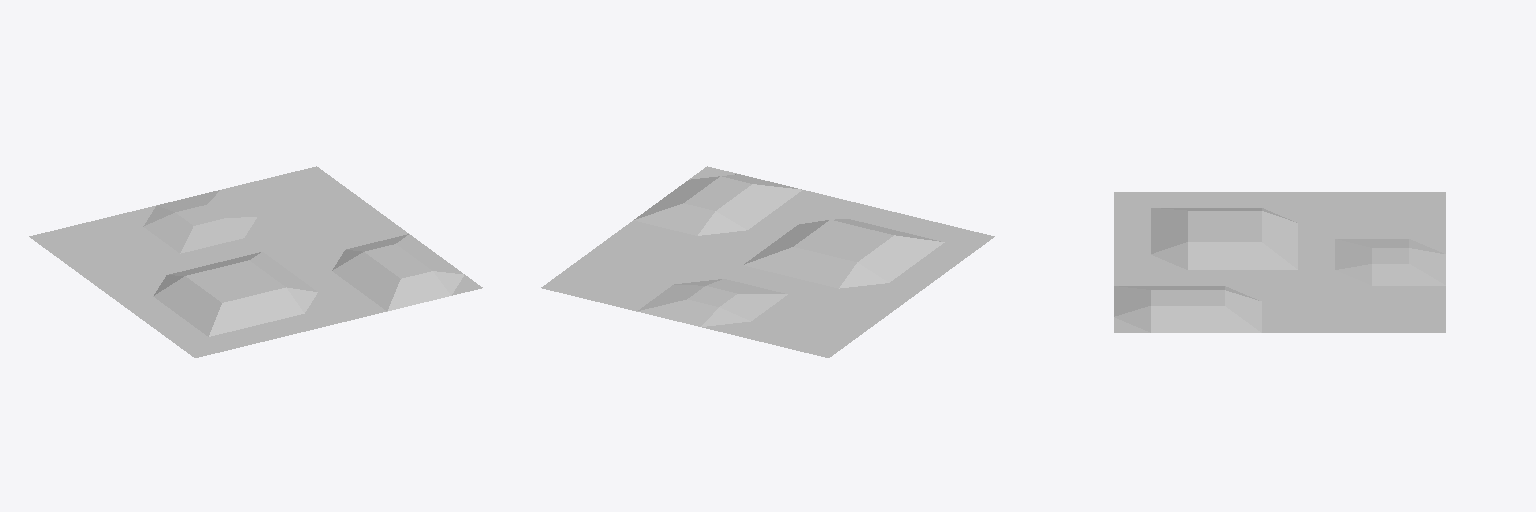
The model's file is terrian.obj.
The picture shows the model from 3 angles: view 1: azimuth 30°, elevation 25°; view 2: azimuth 150°, elevation 25°; view 3: azimuth 270°, elevation 25°; orthographic projection.
Visible parts, largest first — view 1: Terrian_Grid; view 2: Terrian_Grid; view 3: Terrian_Grid.
Part boxes in pixels (x1,y1,x2,y2): Terrian_Grid: (29, 166, 482, 357); Terrian_Grid: (541, 166, 994, 357); Terrian_Grid: (1114, 192, 1445, 332).
Bounding box in the file's own units: 10 × 0.4218 × 10.